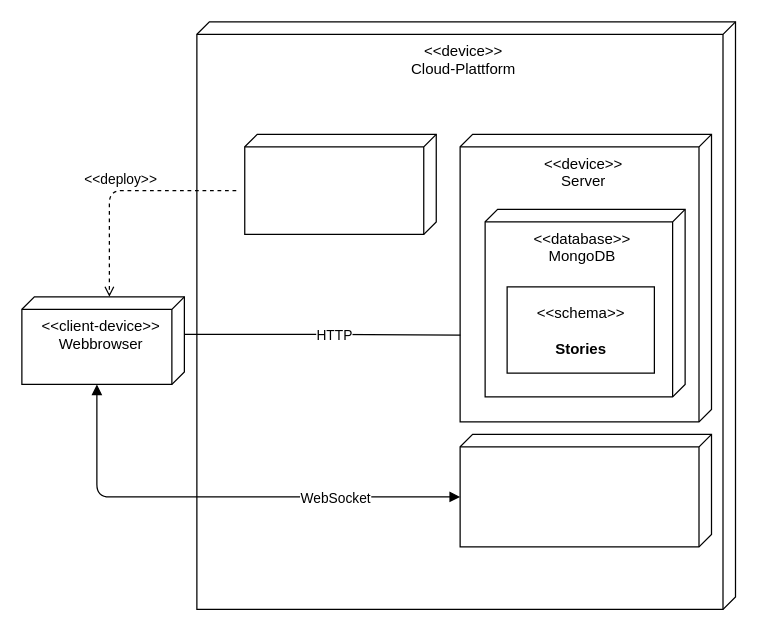
Some shapes in this 781 by 633 pixel diagram are drawn without their labels. Each missing label, with the centre of its shape:
"<<device>> Emotion detection Server" belongs at point 585,490.
"<<device>> Webapp deploying Server" belongs at point 340,183.
